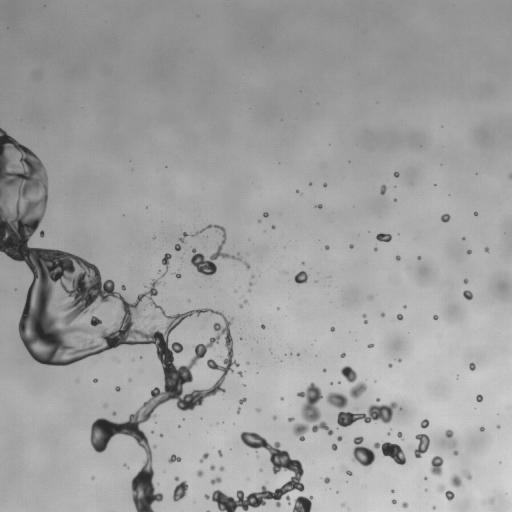droplet: (204, 431, 304, 511), (190, 224, 249, 276), (292, 382, 333, 441), (414, 434, 429, 458), (349, 381, 367, 399), (291, 496, 312, 511), (173, 481, 188, 501), (340, 366, 356, 382), (430, 456, 443, 475), (294, 271, 308, 283), (450, 475, 462, 488), (376, 233, 391, 242), (168, 454, 180, 463), (463, 290, 473, 300), (441, 213, 450, 222), (420, 419, 429, 428), (211, 477, 221, 484), (463, 471, 471, 479), (380, 185, 386, 194), (239, 397, 246, 404), (173, 272, 181, 278), (476, 394, 482, 402), (469, 363, 475, 370), (397, 432, 403, 439), (197, 470, 203, 477), (397, 314, 403, 320), (331, 444, 337, 450), (324, 477, 330, 483), (393, 172, 399, 177), (346, 470, 352, 475), (263, 212, 268, 217), (484, 247, 489, 252), (238, 371, 243, 376), (337, 436, 342, 441), (453, 450, 458, 455), (210, 465, 215, 470), (402, 502, 407, 507), (316, 204, 322, 208), (218, 450, 222, 456), (40, 231, 44, 236), (396, 255, 400, 260), (121, 285, 125, 290), (433, 315, 438, 319), (368, 344, 373, 348), (340, 353, 345, 357), (116, 386, 120, 391), (288, 417, 293, 421), (219, 466, 224, 470), (174, 476, 179, 480), (392, 499, 396, 504), (325, 245, 329, 249), (349, 244, 353, 248), (467, 250, 471, 254), (261, 324, 265, 328), (330, 327, 334, 331), (388, 363, 392, 367), (93, 378, 97, 382), (256, 408, 260, 412), (112, 411, 116, 415), (480, 427, 484, 431), (464, 279, 467, 283), (323, 368, 326, 372), (237, 408, 240, 412), (273, 415, 276, 419), (323, 183, 326, 186), (272, 225, 275, 228), (417, 256, 420, 259), (249, 282, 252, 285), (368, 296, 371, 299), (381, 313, 384, 316), (363, 314, 366, 317), (364, 320, 367, 323), (398, 359, 401, 362), (280, 397, 283, 400), (376, 398, 379, 401), (124, 464, 127, 467), (391, 489, 394, 492), (296, 190, 299, 192), (394, 198, 396, 201), (474, 212, 477, 214), (258, 219, 260, 222), (374, 248, 377, 250), (128, 379, 131, 381), (104, 404, 107, 406), (497, 425, 499, 428), (151, 430, 153, 433), (424, 477, 427, 479), (342, 503, 344, 506), (462, 237, 464, 239), (302, 262, 304, 264), (158, 270, 160, 272), (297, 353, 299, 355), (160, 434, 162, 436), (153, 445, 155, 447)
ligament: (0, 128, 238, 511), (326, 392, 397, 427), (352, 436, 406, 466), (437, 485, 454, 500), (174, 232, 187, 250), (445, 430, 456, 447), (200, 453, 209, 462), (239, 300, 247, 307), (509, 173, 511, 179)
